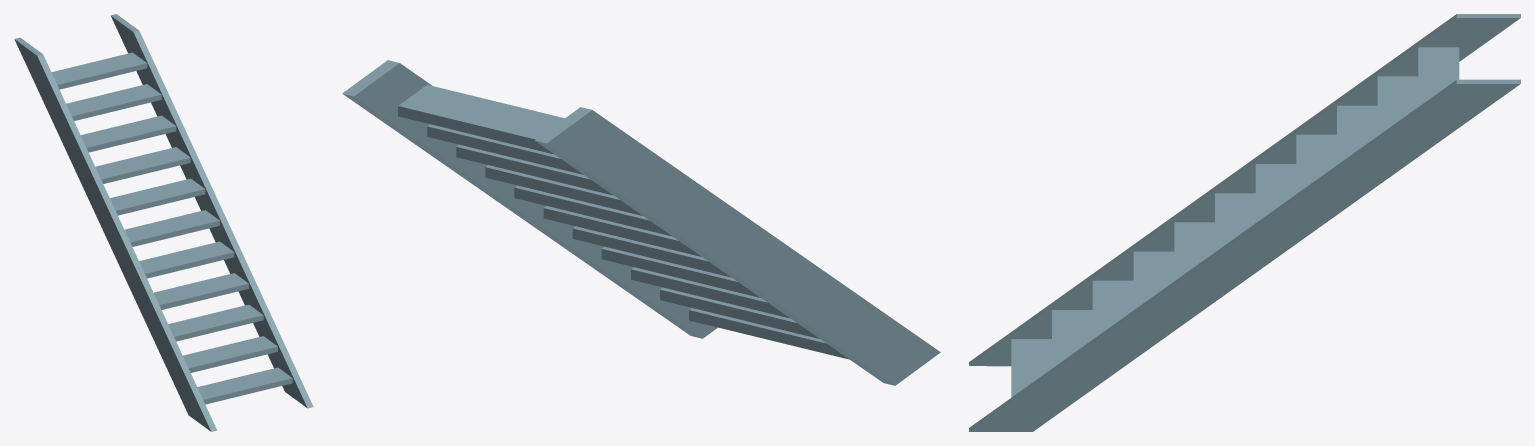
Rendered from Stairs_099.glb.
3 renders of one model, left to right at view 1: azimuth 30°, elevation 25°; view 2: azimuth 150°, elevation 25°; view 3: azimuth 270°, elevation 25°, orthographic. The views are drawn at different scales.
Visible parts, largest first — view 1: Stairs_099; view 2: Stairs_099; view 3: Stairs_099.
Part boxes in pixels (x1,y1,x2,y2): Stairs_099: (14, 14, 313, 431); Stairs_099: (342, 60, 940, 385); Stairs_099: (969, 14, 1520, 431).
Bounding box in the file's own units: 1.72 × 4 × 5.74.
Materials: 1 (1 with a texture image).
